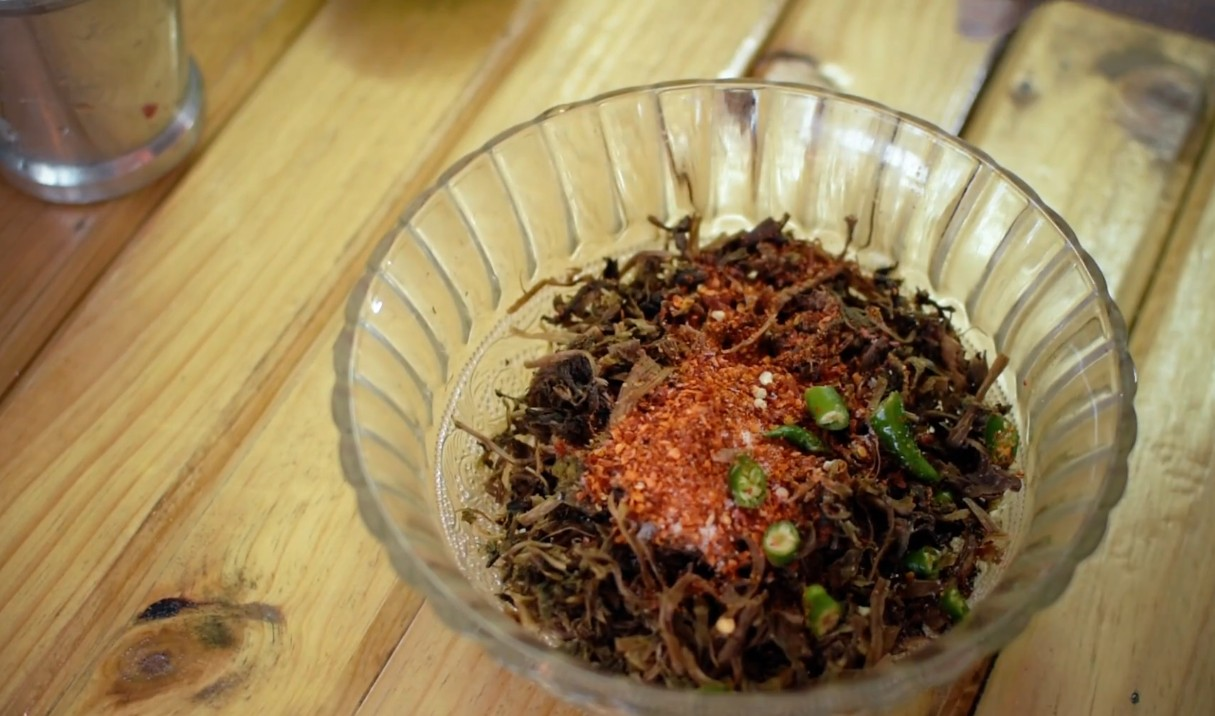gundruk: (483, 227, 990, 665)
